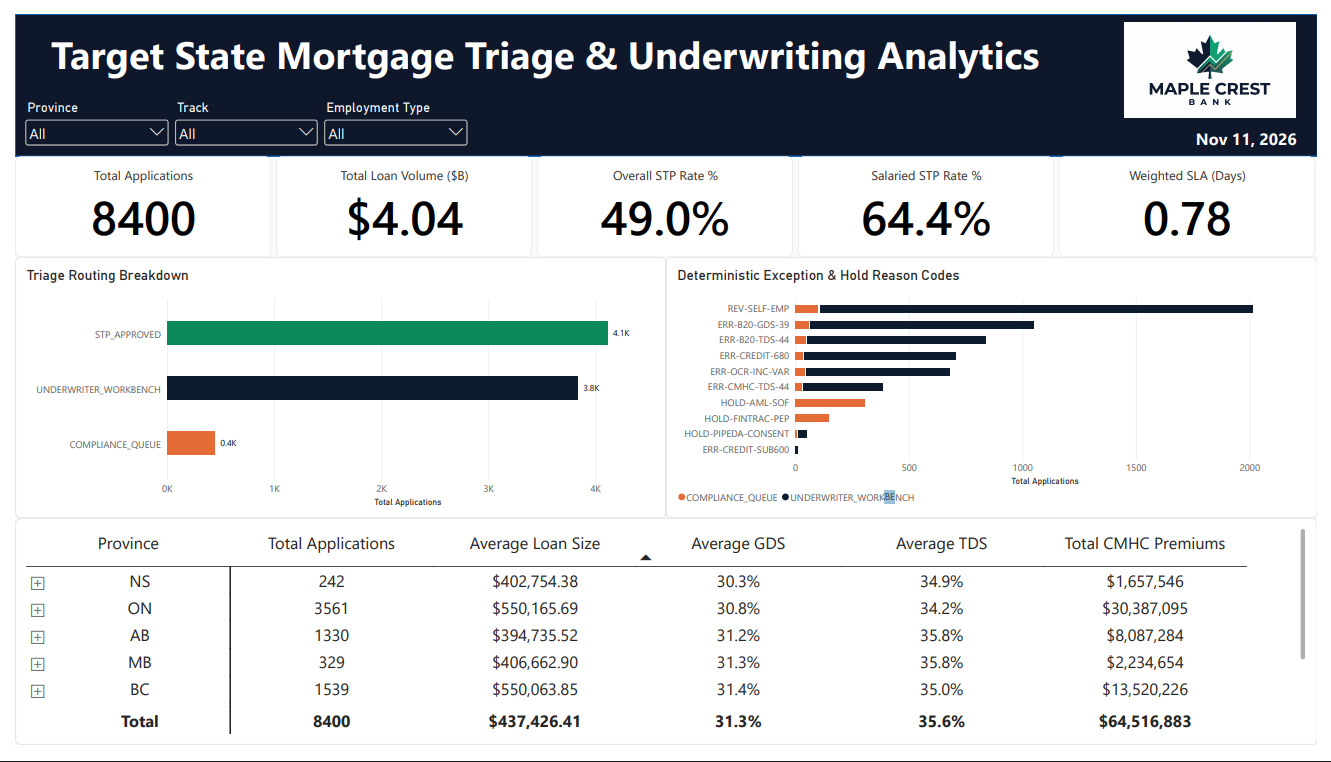

Layout of this report page (visuals, bound fields, positions):
{"tool":"powerbi","page":{"name":"Executive Triage & SLA Overview","canvas":[1920,1080],"ordinal":0},"visuals":[{"type":"shape","title":"Maple Crest Bank — Target State Mortgage Triage & Underwriting Analytics","box":[0,0,1920.6,210.1],"z":0},{"type":"textbox","box":[10.6,21.3,1518.9,93.1],"z":1000},{"type":"slicer","fields":{"Values":["triaged_applications.province"]},"box":[10.1,126.8,220.5,82.2],"z":2000},{"type":"slicer","fields":{"Values":["triaged_applications.track"]},"box":[230.6,126.8,220.5,82.2],"z":3000},{"type":"slicer","fields":{"Values":["triaged_applications.employment_type"]},"box":[451.2,126.8,220.5,82.2],"z":4000},{"type":"cardVisual","fields":{"Data":["_Measures.Total Applications","_Measures.Total Loan Volume ($B)","_Measures.Overall STP Rate %","_Measures.Salaried STP Rate %","_Measures.Weighted SLA (Days)"]},"box":[0,210.1,1920.6,149],"z":5000},{"type":"barChart","title":"Triage Routing Breakdown","fields":{"Category":["triaged_applications.routing_decision"],"Y":["_Measures.Total Applications"]},"box":[0,359.1,960.3,385.7],"z":6000},{"type":"barChart","title":"Deterministic Exception & Hold Reason Codes","fields":{"Category":["reason_code_pareto.reason_code"],"Series":["reason_code_pareto.routing_decision"],"Y":["Sum(reason_code_pareto.application_count)"]},"box":[960.3,359.1,960.3,385.7],"z":7000},{"type":"pivotTable","fields":{"Rows":["provincial_track_summary.province","provincial_track_summary.track"],"Values":["Sum(provincial_track_summary.application_count)","Avg(provincial_track_summary.avg_loan_size)","Avg(provincial_track_summary.avg_gds)","Avg(provincial_track_summary.avg_tds)","Sum(provincial_track_summary.total_cmhc_premiums)"]},"box":[0,744.8,1920.6,335.2],"z":8000},{"type":"image","box":[1634.6,12,256.7,141],"z":9000},{"type":"textbox","box":[1686.5,167.6,204.8,38.6],"z":10000}]}

Visuals, with their boxes in screenshot pixels (x1, y1, x2, y2), scaled from the page's 1920x1080 canvas onto the 1331x762 screenshot:
"Maple Crest Bank — Target State Mortgage Triage & Underwriting Analytics" shape: {"x1": 0, "y1": 0, "x2": 1330, "y2": 148}
textbox: {"x1": 7, "y1": 15, "x2": 1060, "y2": 81}
slicer - triaged_applications.province: {"x1": 7, "y1": 89, "x2": 160, "y2": 147}
slicer - triaged_applications.track: {"x1": 160, "y1": 89, "x2": 313, "y2": 147}
slicer - triaged_applications.employment_type: {"x1": 313, "y1": 89, "x2": 466, "y2": 147}
cardVisual - _Measures.Total Applications x _Measures.Total Loan Volume ($B): {"x1": 0, "y1": 148, "x2": 1330, "y2": 253}
"Triage Routing Breakdown" barChart: {"x1": 0, "y1": 253, "x2": 666, "y2": 525}
"Deterministic Exception & Hold Reason Codes" barChart: {"x1": 666, "y1": 253, "x2": 1330, "y2": 525}
pivotTable - provincial_track_summary.province x provincial_track_summary.track: {"x1": 0, "y1": 525, "x2": 1330, "y2": 761}
image: {"x1": 1133, "y1": 8, "x2": 1311, "y2": 108}
textbox: {"x1": 1169, "y1": 118, "x2": 1311, "y2": 145}
